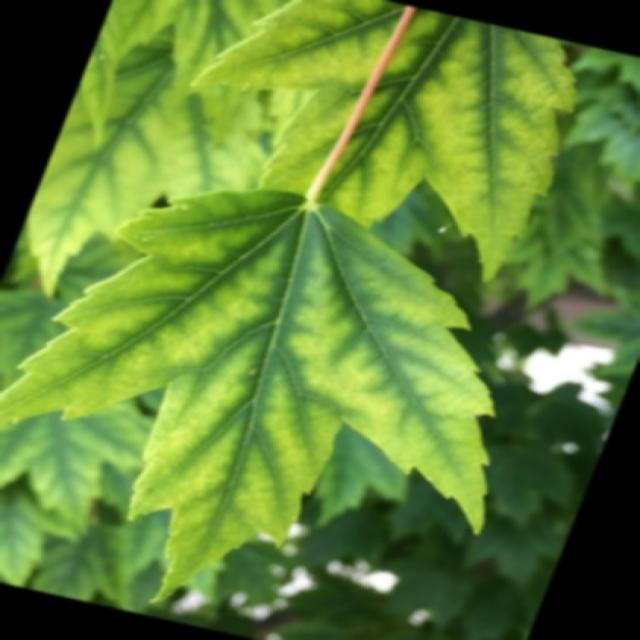Chlorosis: (42, 10, 604, 626)
